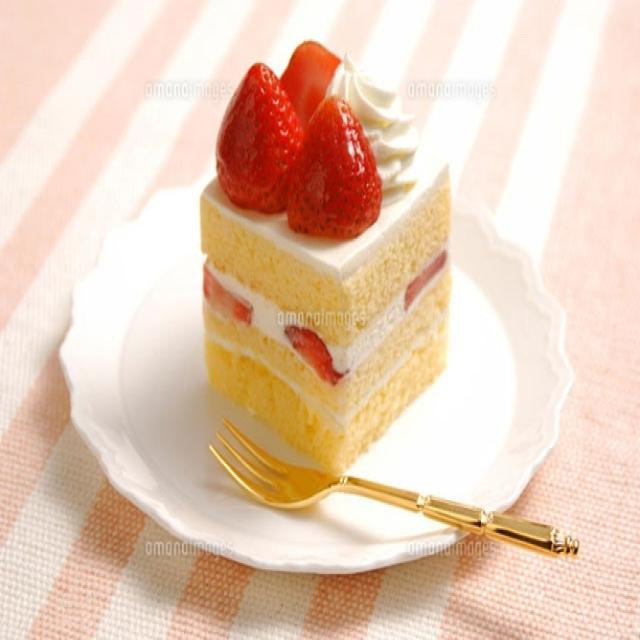蛋糕甜品: (56, 16, 597, 596)
